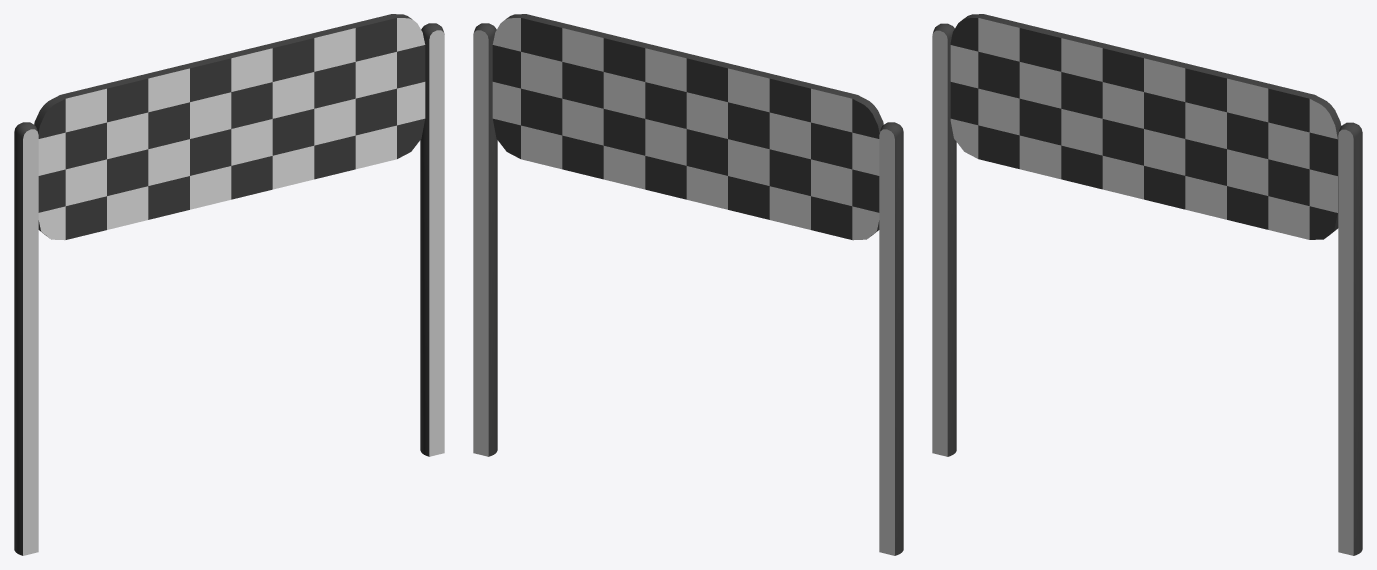
Rendered from Finish Arc.fbx.
3 views of the same model, side by side, from view 1: azimuth 30°, elevation 25°; view 2: azimuth 150°, elevation 25°; view 3: azimuth 330°, elevation 25° (orthographic).
Parts seen in each view (by area): view 1: Finish Arc; view 2: Finish Arc; view 3: Finish Arc.
Boxes of the visible parts, box(x1,y1,x2,y2) form: Finish Arc: box(14, 14, 444, 555); Finish Arc: box(473, 14, 903, 555); Finish Arc: box(932, 14, 1362, 555).
Bounding box in the file's own units: 3.42 × 3.42 × 0.1238.
